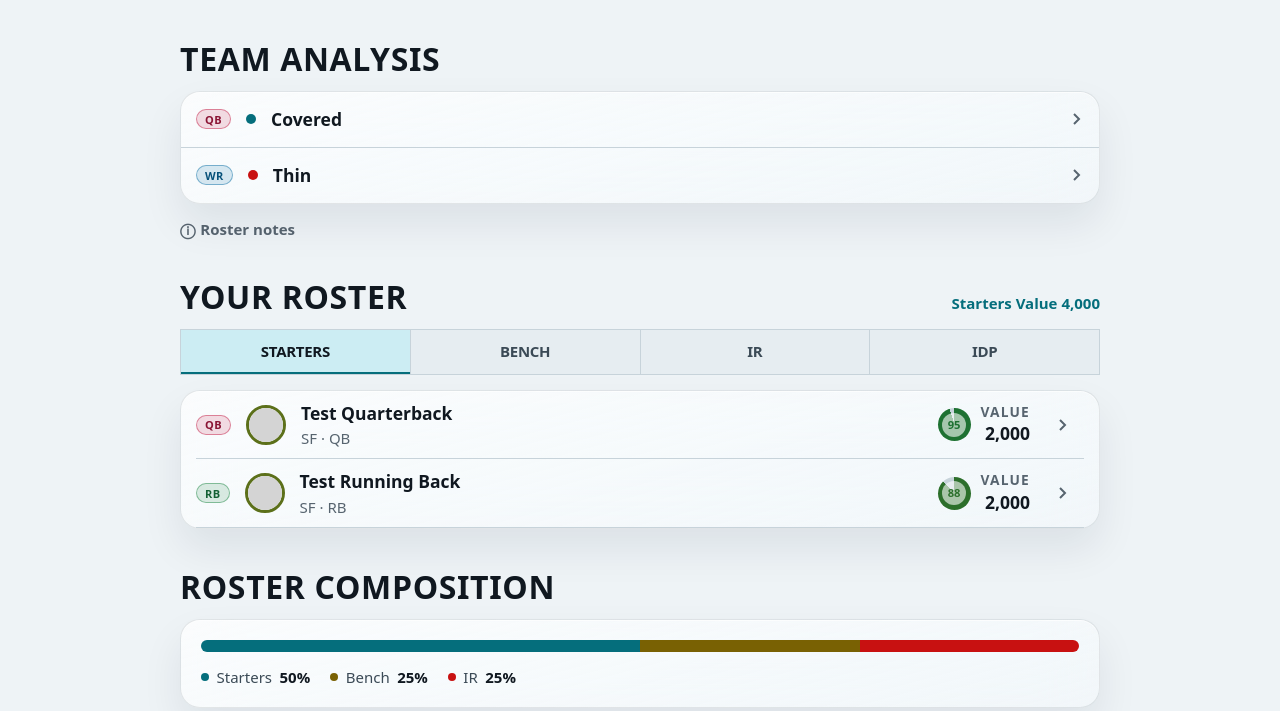
it: MyTeamContent best ball › adds an IDP tab with model values only in IDP leagues
The image size is (1280, 711).
(page scrolled)
What coordinates should you click on to do the following:
click the tab "IDP"
I would click on:
 (984, 352)
Its box is [869,330,1099,374].
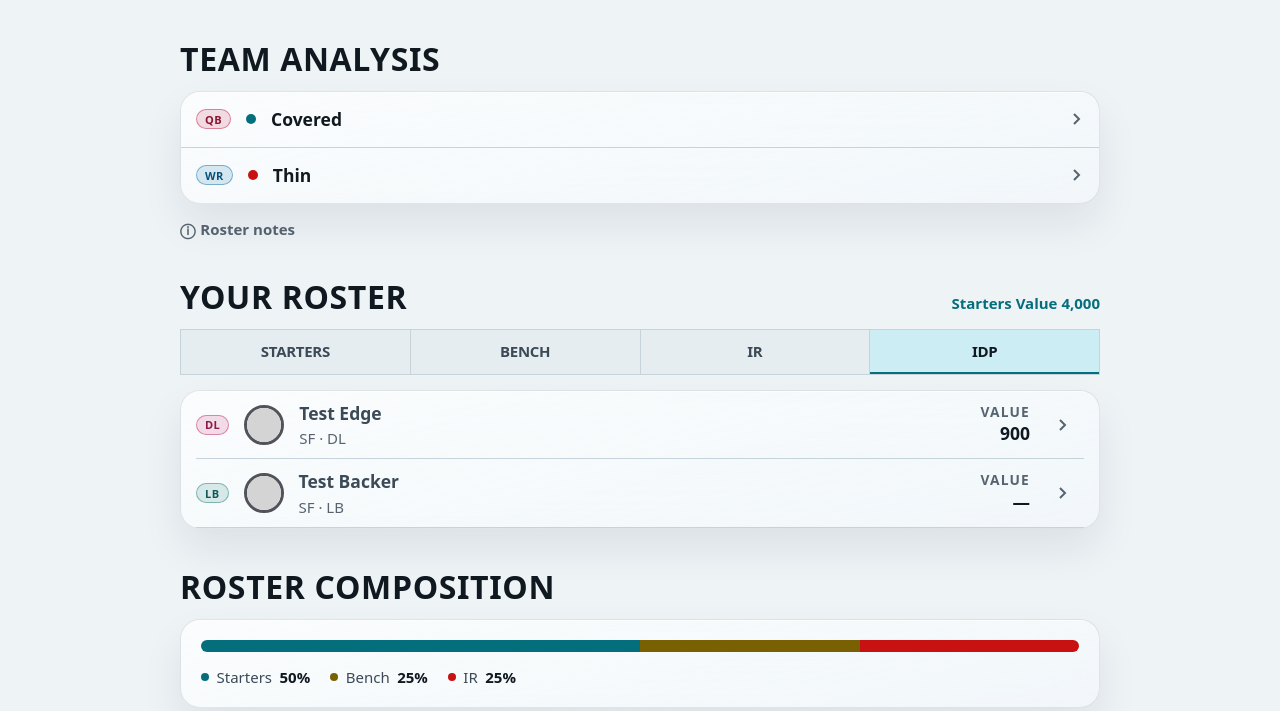
expect the text "Test Edge" is shown: met, box [299,401,382,426]
expect the text "Test Backer" is shown: met, box [298,469,399,494]
expect the text "900" is shown: met, box [1000,421,1030,446]
